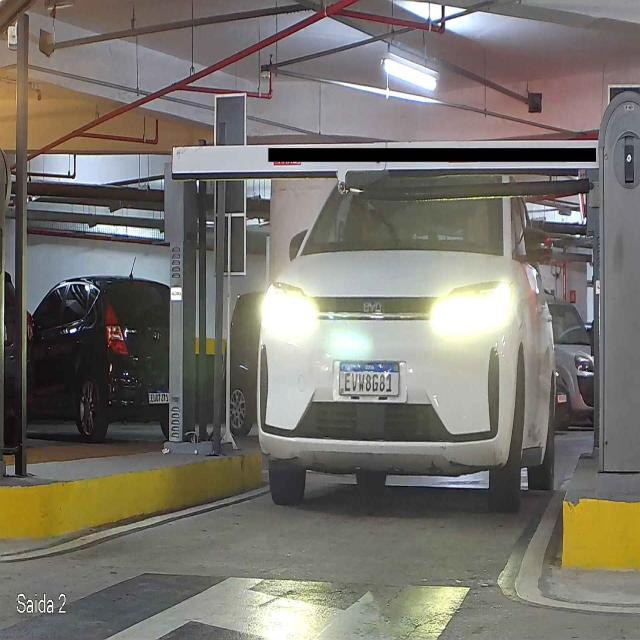mercosul_plate: (337, 360, 401, 398)
